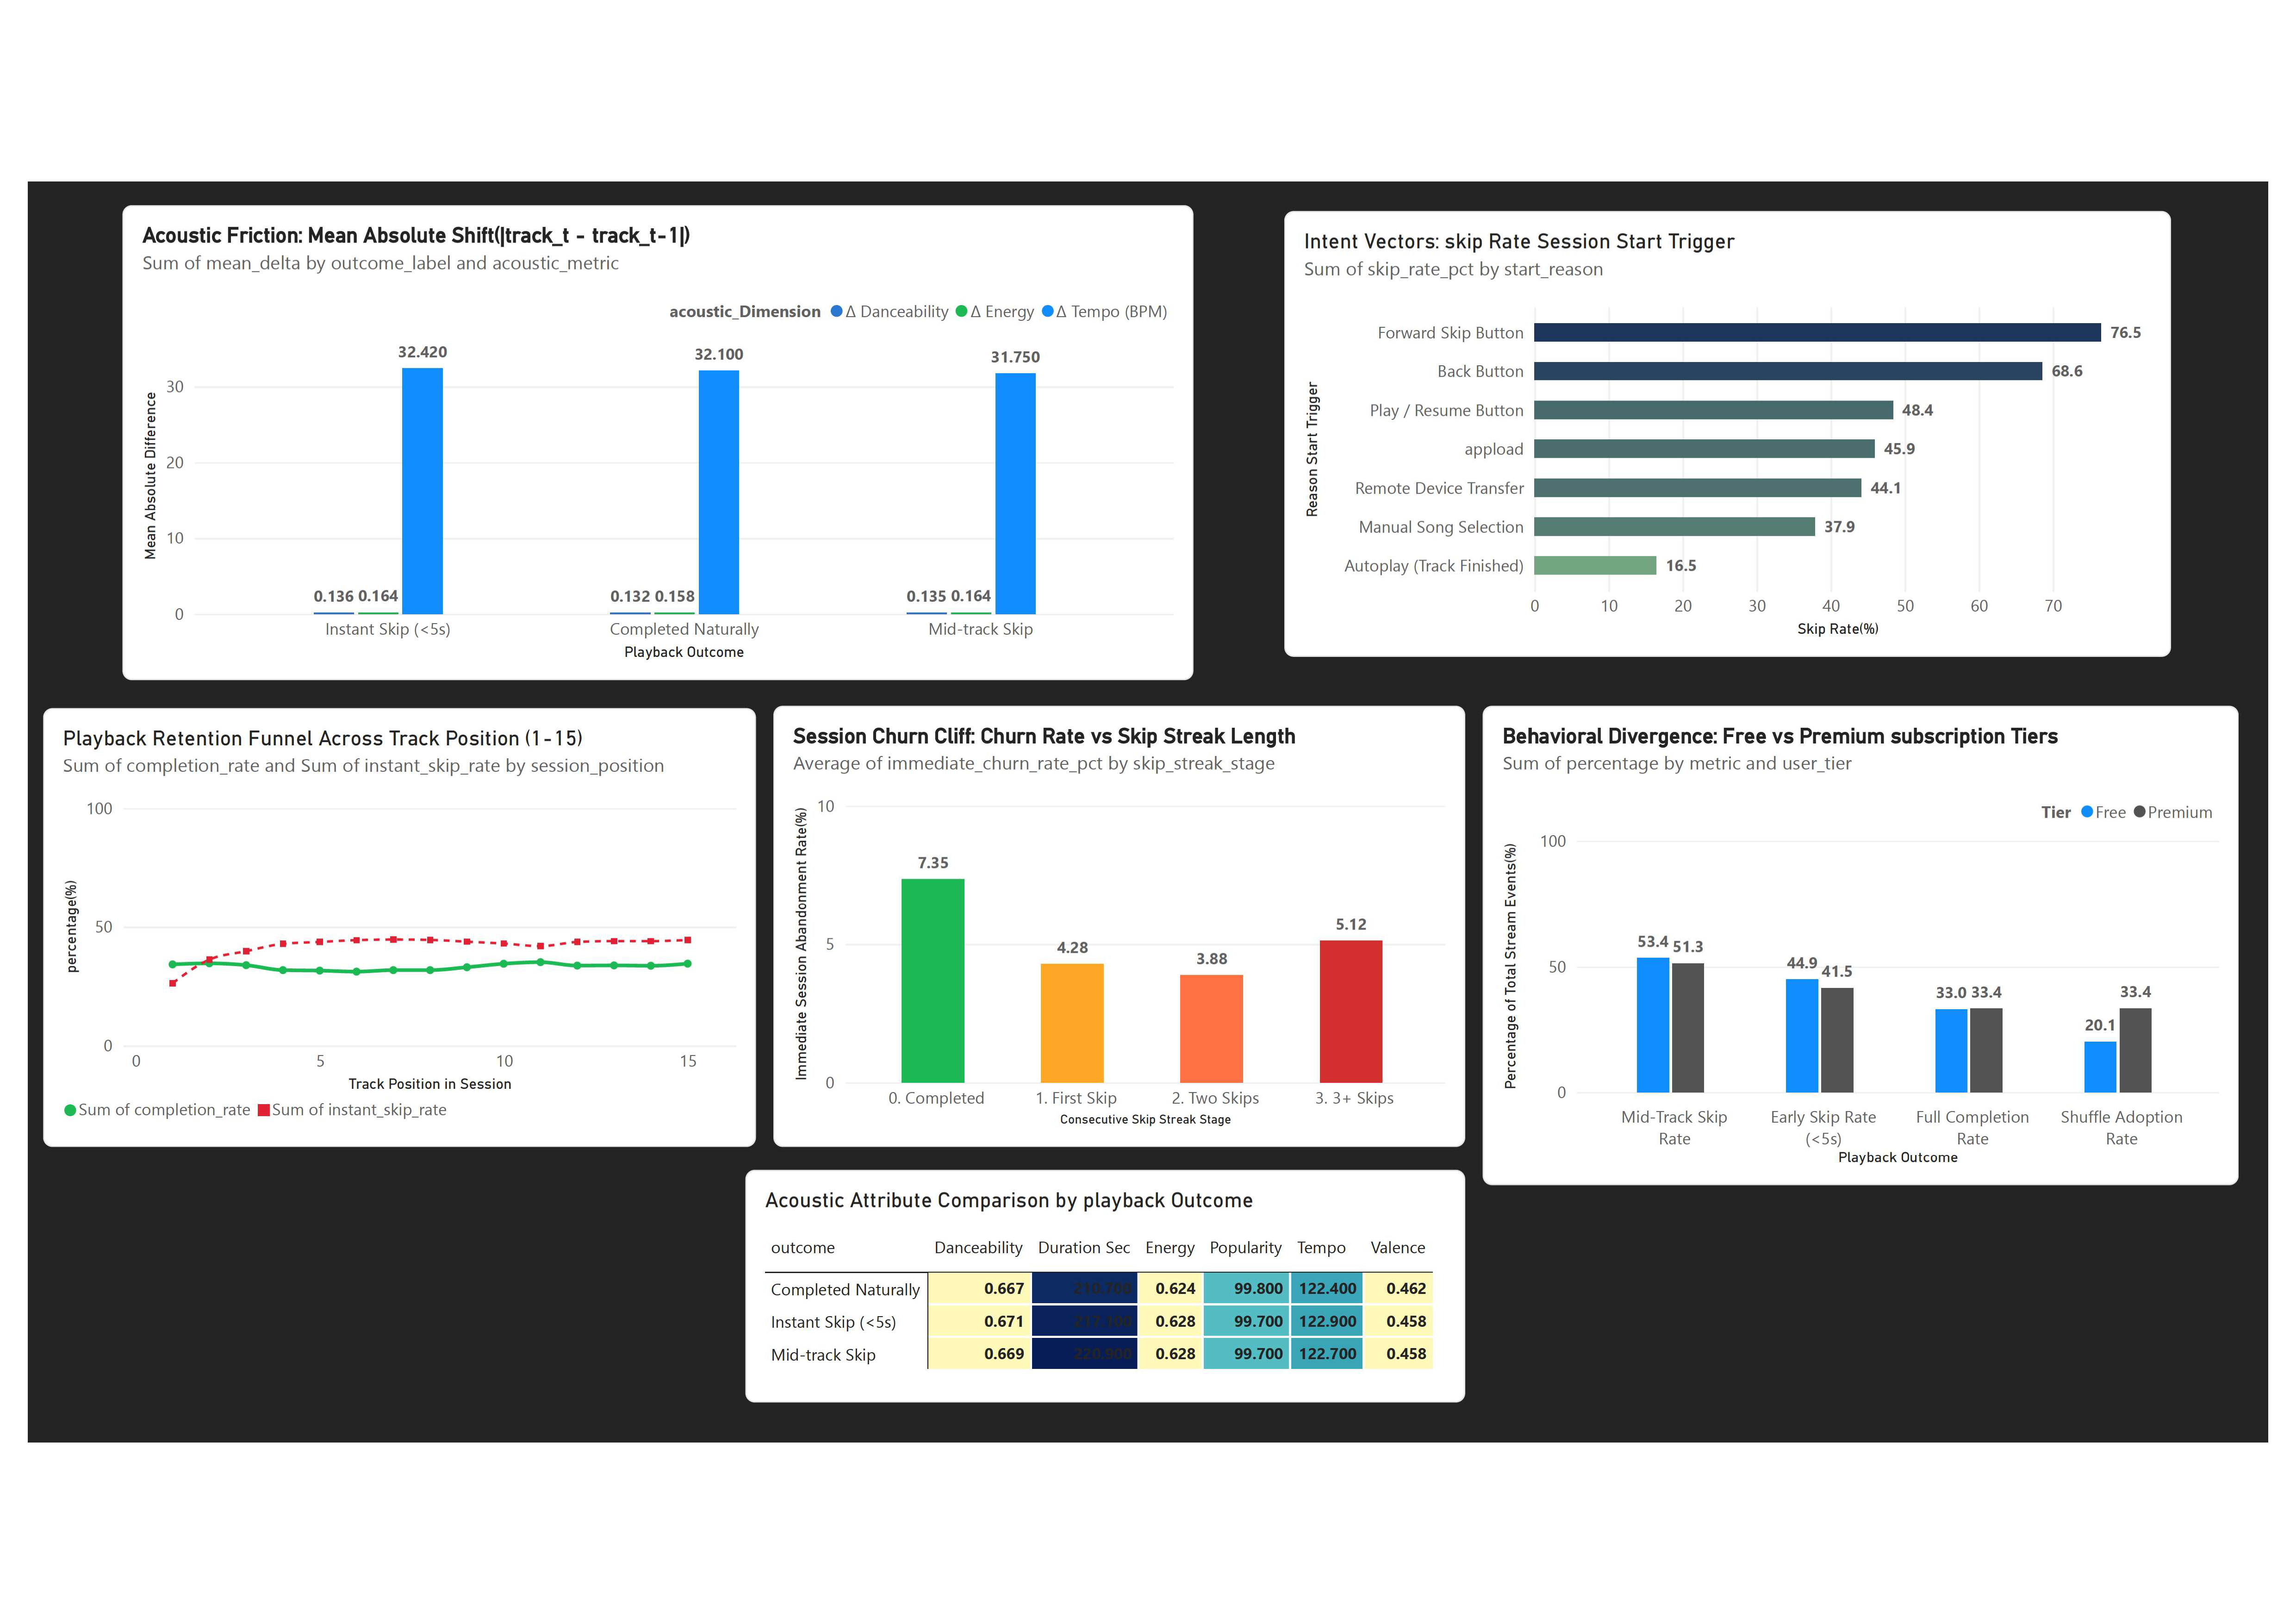

What the dashboard file says about the page in this screenshot:
{"tool":"powerbi","page":{"name":"Page 1","canvas":[1920,1080],"ordinal":0},"visuals":[{"type":"clusteredColumnChart","title":"Acoustic Friction: Mean Absolute Shift(|track_t - track_t-1|)","fields":{"Category":["pbi_acoustic_deltas.outcome_label"],"Series":["pbi_acoustic_deltas.acoustic_metric"],"Y":["Sum(pbi_acoustic_deltas.mean_delta)"]},"box":[81.4,19.9,917.5,407.2],"z":0},{"type":"pivotTable","title":"Acoustic Attribute Comparison by playback Outcome","fields":{"Columns":["pbi_acoustic_heatmap.acoustic_feature"],"Rows":["pbi_acoustic_heatmap.outcome"],"Values":["Avg(pbi_acoustic_heatmap.mean_score)"]},"box":[615.3,846.9,617.1,199.1],"z":1},{"type":"lineChart","title":"Playback Retention Funnel Across Track Position (1-15)","fields":{"Category":["pbi_funnel.session_position"],"Y":["Sum(pbi_funnel.completion_rate)","Sum(pbi_funnel.instant_skip_rate)"]},"box":[12.7,450.6,611.7,376.4],"z":2},{"type":"clusteredColumnChart","title":"Session Churn Cliff: Churn Rate vs Skip Streak Length","fields":{"Category":["pbi_churn_cliff.skip_streak_stage"],"Y":["Avg(pbi_churn_cliff.immediate_churn_rate_pct)"]},"box":[638.8,448.8,593.6,378.2],"z":3},{"type":"clusteredColumnChart","title":"Behavioral Divergence: Free vs Premium subscription Tiers","fields":{"Category":["pbi_tiers.metric"],"Series":["pbi_tiers.user_tier"],"Y":["Sum(pbi_tiers.percentage)"]},"box":[1246.9,448.8,647.9,410.8],"z":4},{"type":"clusteredBarChart","title":"Intent Vectors: skip Rate Session Start Trigger","fields":{"Category":["pbi_intent_vectors.start_reason"],"Y":["Sum(pbi_intent_vectors.skip_rate_pct)"]},"box":[1076.7,25.3,760.1,381.8],"z":5}]}

Visuals, with their boxes in screenshot pixels (x1, y1, x2, y2):
"Acoustic Friction: Mean Absolute Shift(|track_t - track_t-1|)" clusteredColumnChart: pyautogui.locateOnScreen(108, 191, 1190, 671)
"Acoustic Attribute Comparison by playback Outcome" pivotTable: pyautogui.locateOnScreen(738, 1167, 1465, 1401)
"Playback Retention Funnel Across Track Position (1-15)" lineChart: pyautogui.locateOnScreen(27, 699, 748, 1143)
"Session Churn Cliff: Churn Rate vs Skip Streak Length" clusteredColumnChart: pyautogui.locateOnScreen(765, 697, 1465, 1143)
"Behavioral Divergence: Free vs Premium subscription Tiers" clusteredColumnChart: pyautogui.locateOnScreen(1482, 697, 2246, 1181)
"Intent Vectors: skip Rate Session Start Trigger" clusteredBarChart: pyautogui.locateOnScreen(1282, 197, 2178, 648)
